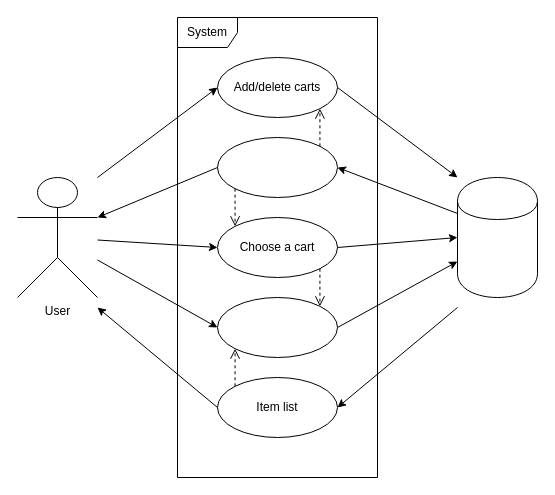
This 555x495 diagram has some shape labels left out. Each missing label, with the centre of its shape:
Add items to selected cart: pixel 277 327
Cart List: pixel 277 167
Database: pixel 497 237
